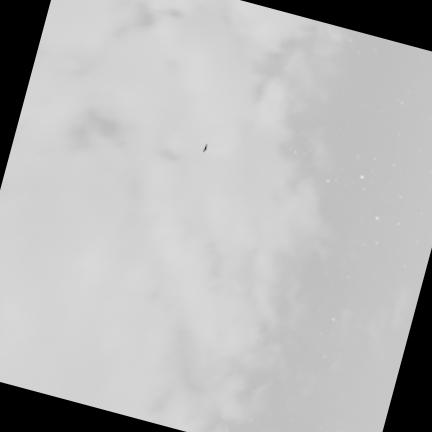Shahed: (202, 141, 208, 152)
